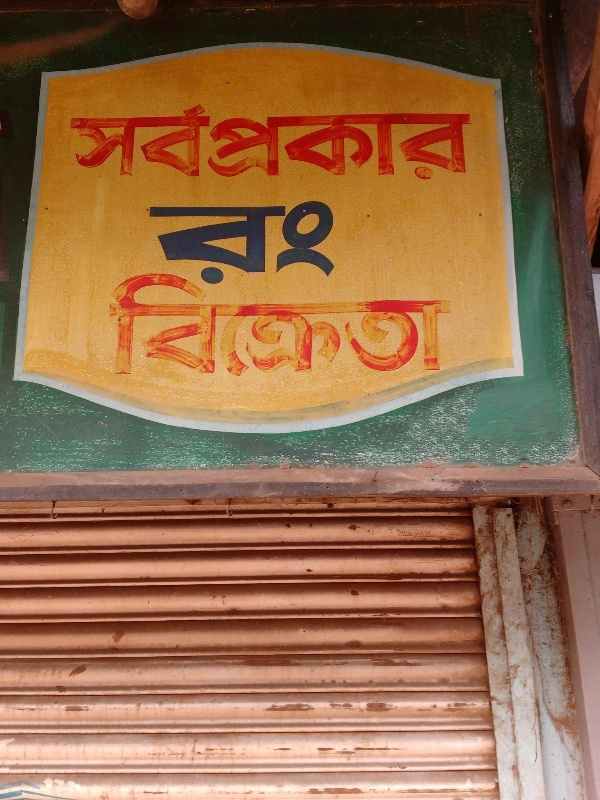text: (113, 273, 128, 376), (129, 273, 144, 376), (145, 273, 160, 376), (161, 273, 176, 376), (177, 273, 192, 376), (193, 273, 208, 376), (209, 273, 224, 376), (225, 273, 240, 376), (241, 273, 256, 376), (257, 273, 272, 376), (273, 273, 288, 376), (289, 273, 304, 376), (305, 273, 320, 376), (321, 273, 336, 376), (337, 273, 352, 376), (353, 273, 368, 376), (369, 273, 384, 376), (385, 273, 400, 376), (401, 273, 416, 376), (417, 273, 432, 376), (433, 273, 448, 376), (145, 200, 160, 286), (161, 200, 176, 286), (177, 200, 192, 286), (193, 200, 208, 286), (209, 200, 224, 286), (225, 200, 240, 286), (241, 200, 256, 286), (257, 200, 272, 286), (273, 200, 288, 286), (289, 200, 304, 286), (305, 200, 320, 286), (321, 200, 336, 286), (17, 5, 32, 89), (33, 5, 48, 89), (49, 5, 64, 89), (65, 5, 80, 89), (81, 5, 96, 89), (97, 5, 112, 89), (113, 5, 128, 89), (129, 5, 144, 89), (145, 5, 160, 89), (161, 5, 176, 89), (81, 102, 96, 183), (97, 102, 112, 183), (113, 102, 128, 183), (129, 102, 144, 183), (145, 102, 160, 183), (161, 102, 176, 183), (177, 102, 192, 183), (193, 102, 208, 183), (209, 102, 224, 183), (225, 102, 240, 183), (241, 102, 256, 183), (257, 102, 272, 183), (273, 102, 288, 183), (289, 102, 304, 183), (305, 102, 320, 183), (321, 102, 336, 183), (337, 102, 352, 183), (353, 102, 368, 183), (369, 102, 384, 183), (385, 102, 400, 183), (401, 102, 416, 183), (417, 102, 432, 183), (433, 102, 448, 183), (449, 102, 464, 183), (3, 5, 16, 89), (465, 102, 476, 183), (337, 200, 347, 286), (72, 102, 80, 183), (449, 273, 455, 376), (109, 273, 112, 376), (177, 5, 180, 89)
